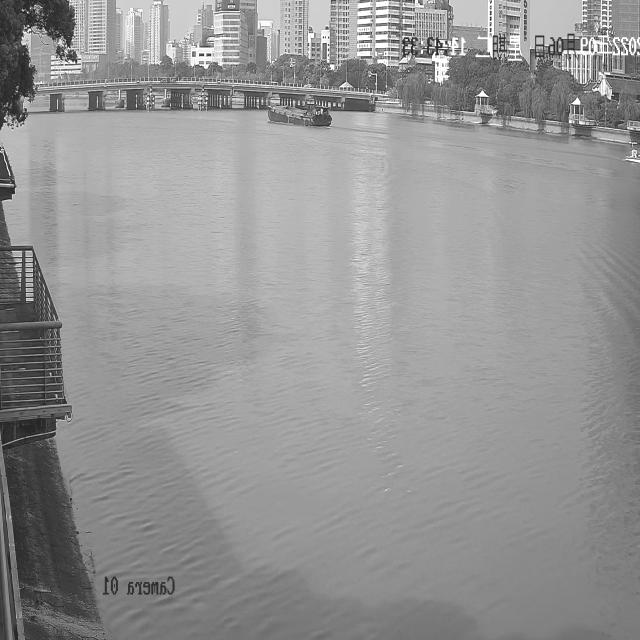ship: (268, 104, 333, 126), (626, 141, 640, 163)
